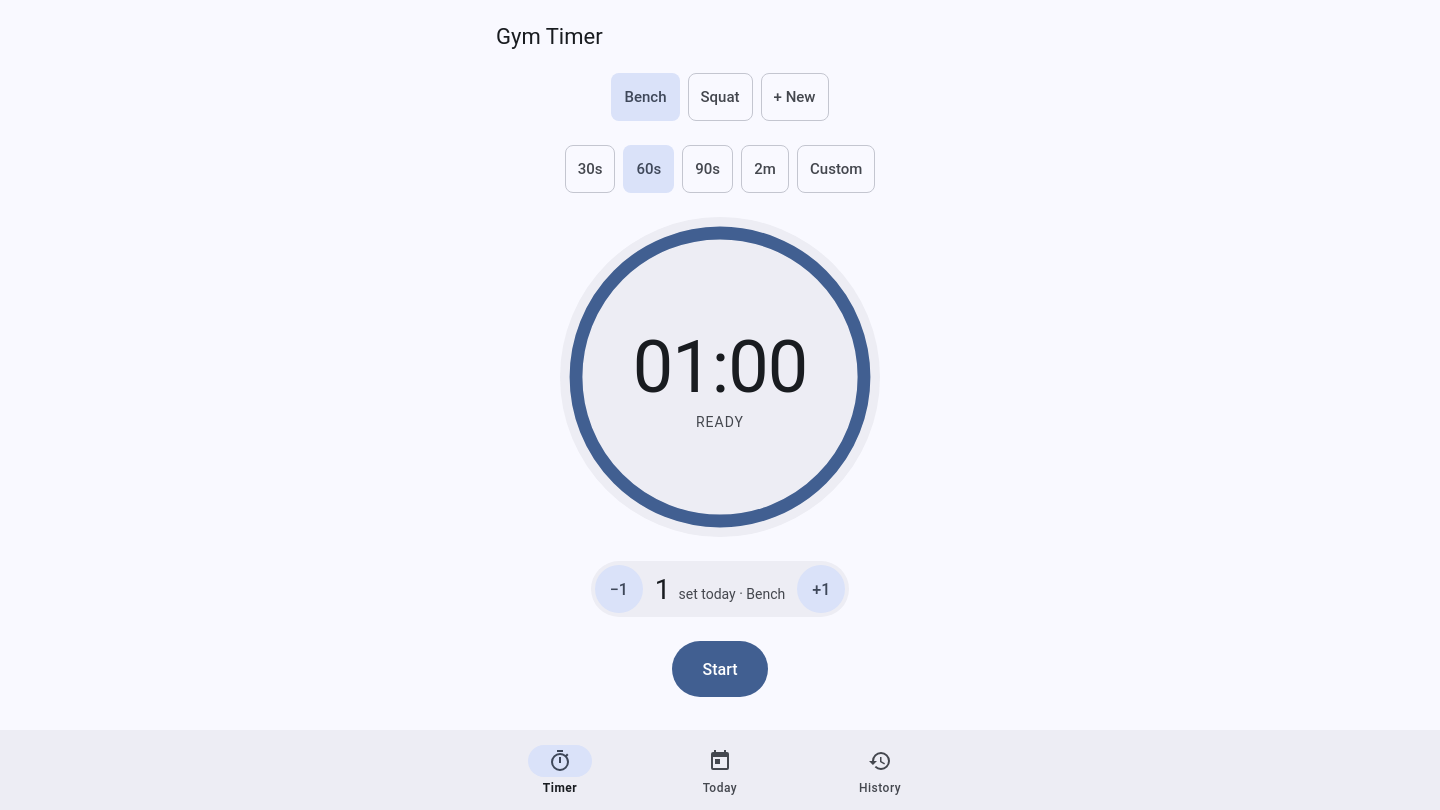
Test: History › lists previous days newest first, excluding today, and expands
The width and height of the screenshot is (1440, 810).
Click the button "History" at (880, 770), box [800, 730, 960, 809]
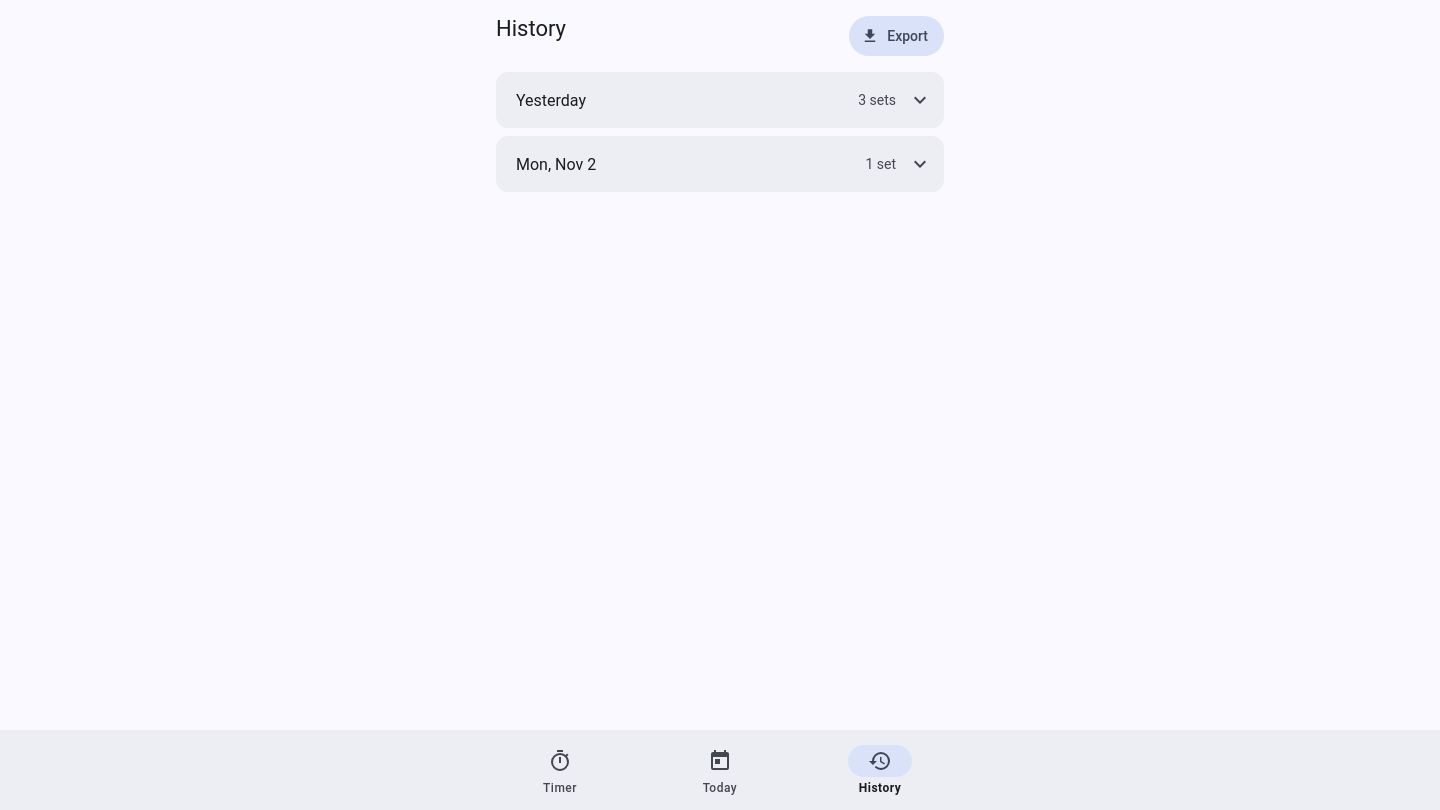
Check: the text with class "day__label" reads "Yesterday", box [516, 90, 586, 110]
Check: the text with class "day__total" reads "3 sets", box [858, 92, 896, 108]
Check: the text with class "day__label" shows "2", box [516, 154, 596, 174]
Click the button with class "day__head" showing "Yesterday 3 sets" at (551, 100), box [496, 72, 944, 128]
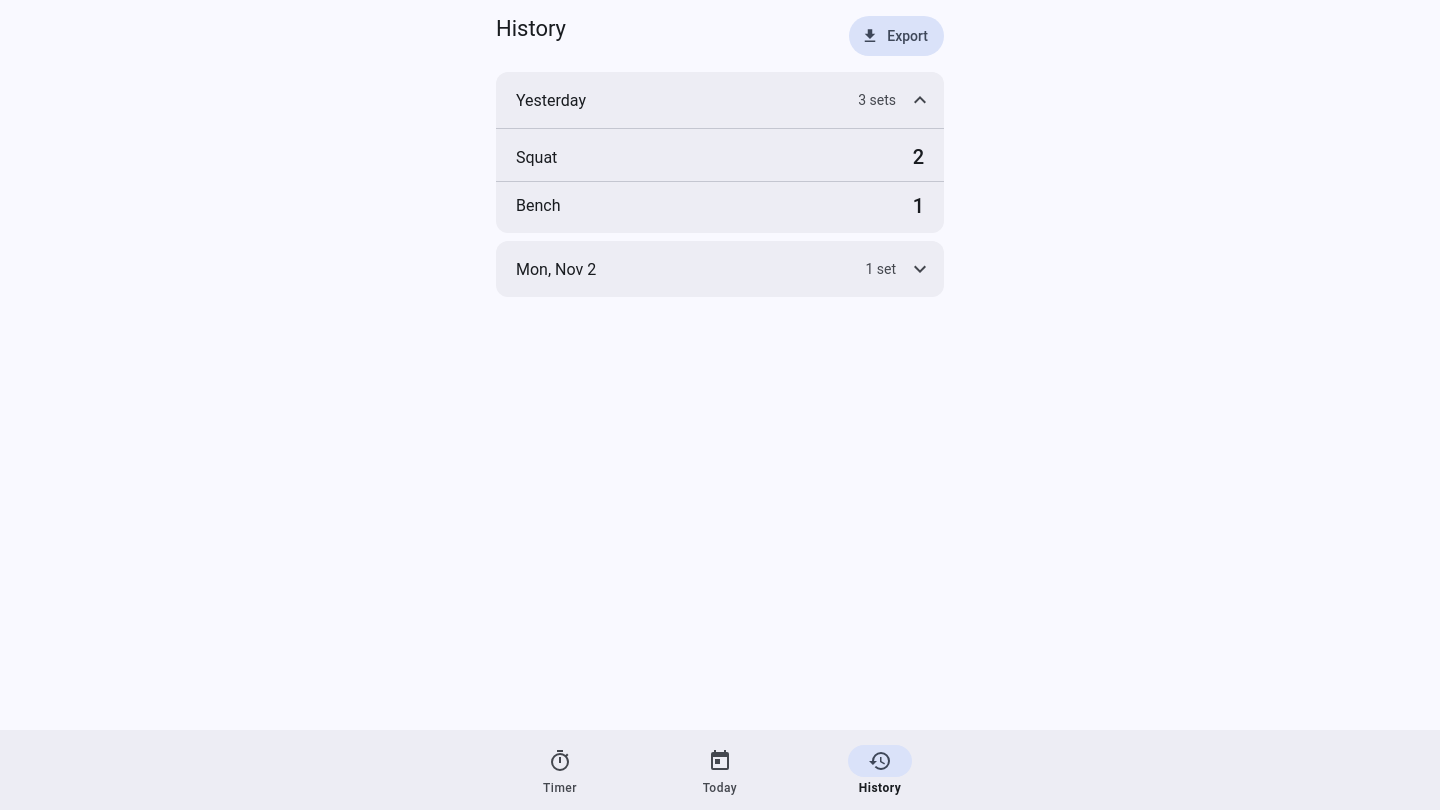
Check: the button with class "day__head" is expanded
Click the button with class "day__head" showing "Yesterday 3 sets" at (551, 100), box [496, 72, 944, 128]
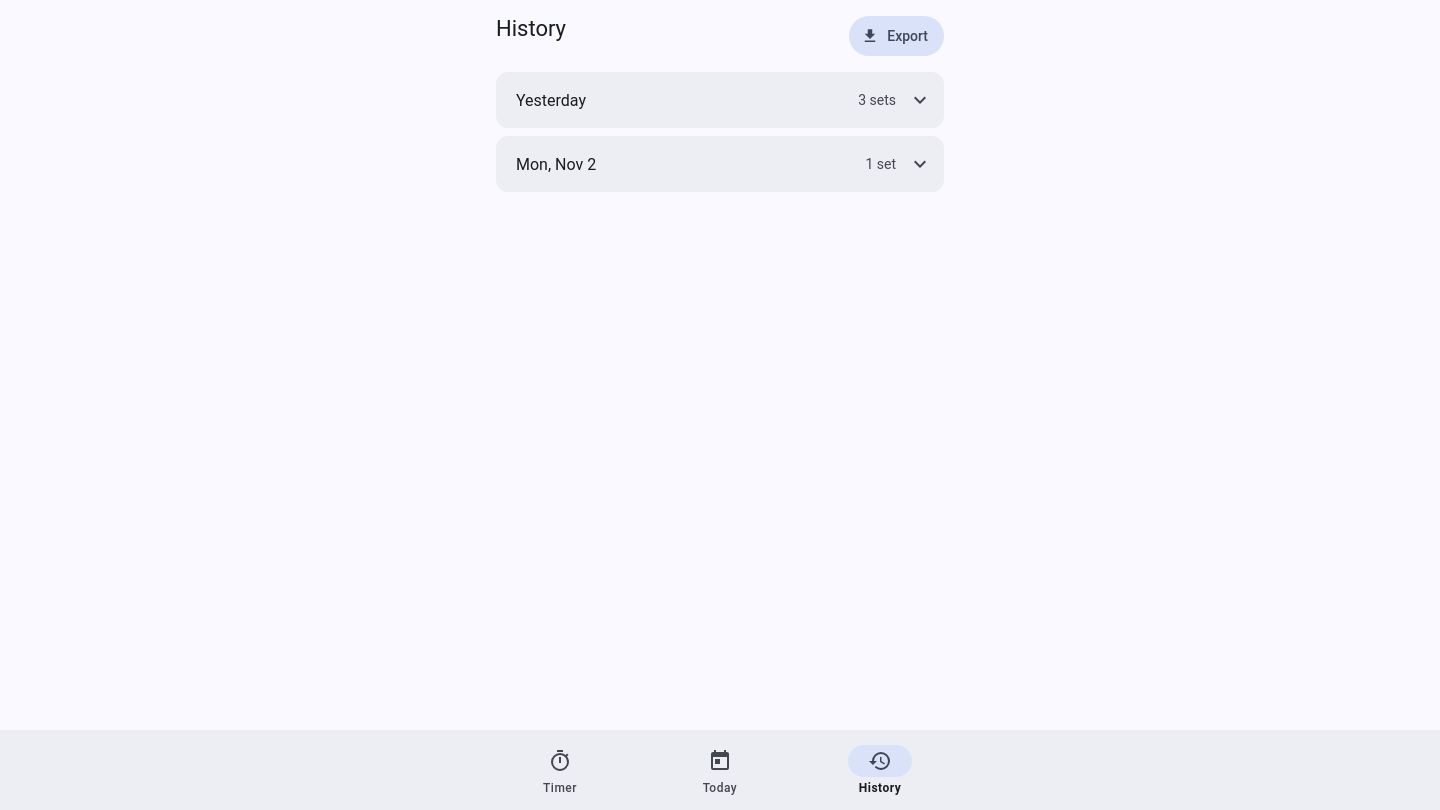
Check: the element with class "day__body" is gone
